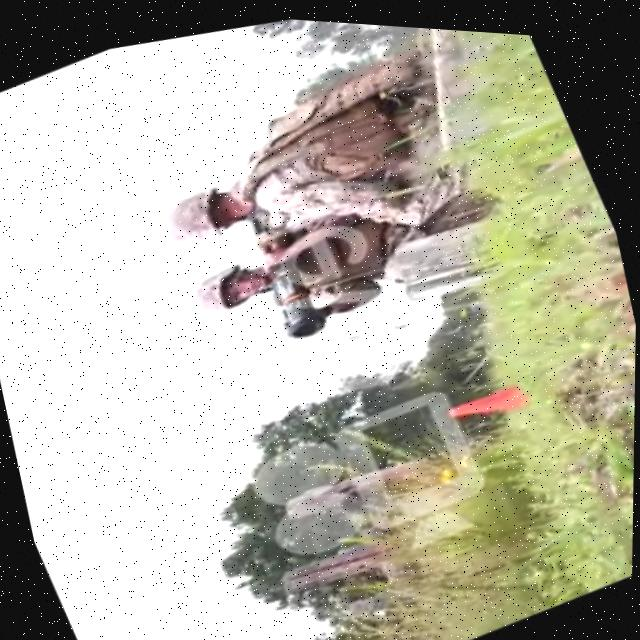rocket: (240, 200, 335, 343)
